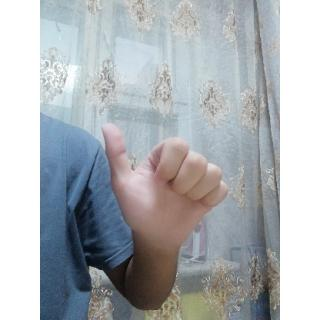DAD: (95, 115, 232, 256)
